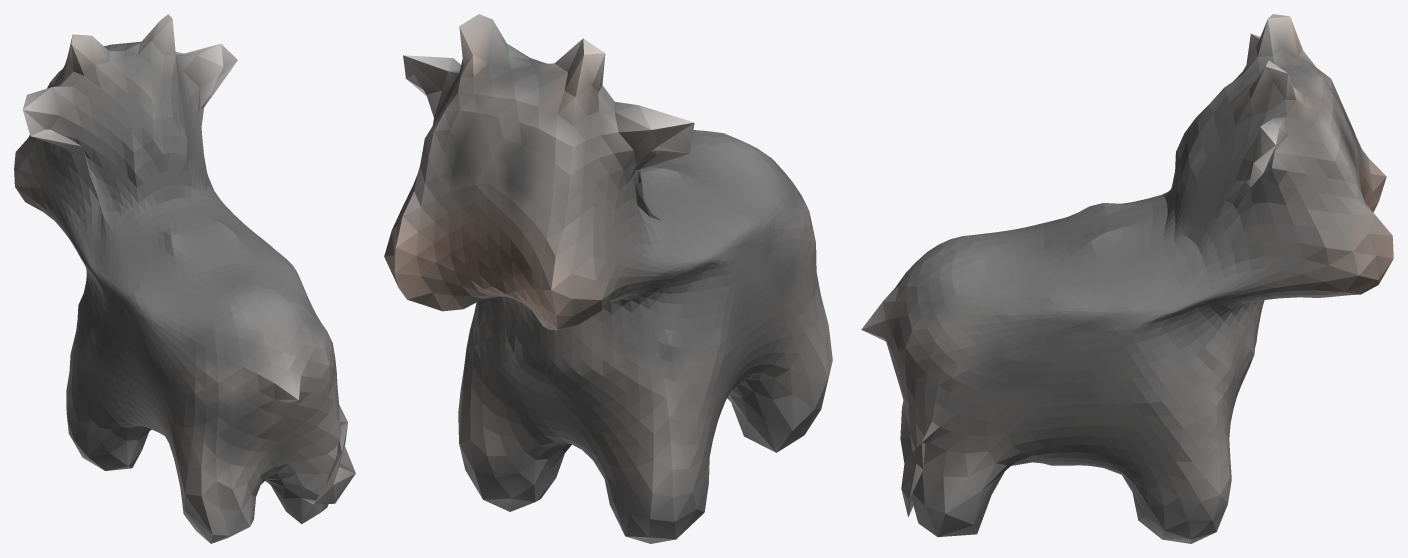
Rendered from colored_mesh_iter_0650.obj.
The picture shows the model from 3 angles, left to right: view 1: azimuth 30°, elevation 25°; view 2: azimuth 150°, elevation 25°; view 3: azimuth 270°, elevation 25°; orthographic projection. The views are drawn at different scales.
Bounding box in the file's own units: 1.11 × 1.96 × 2.
